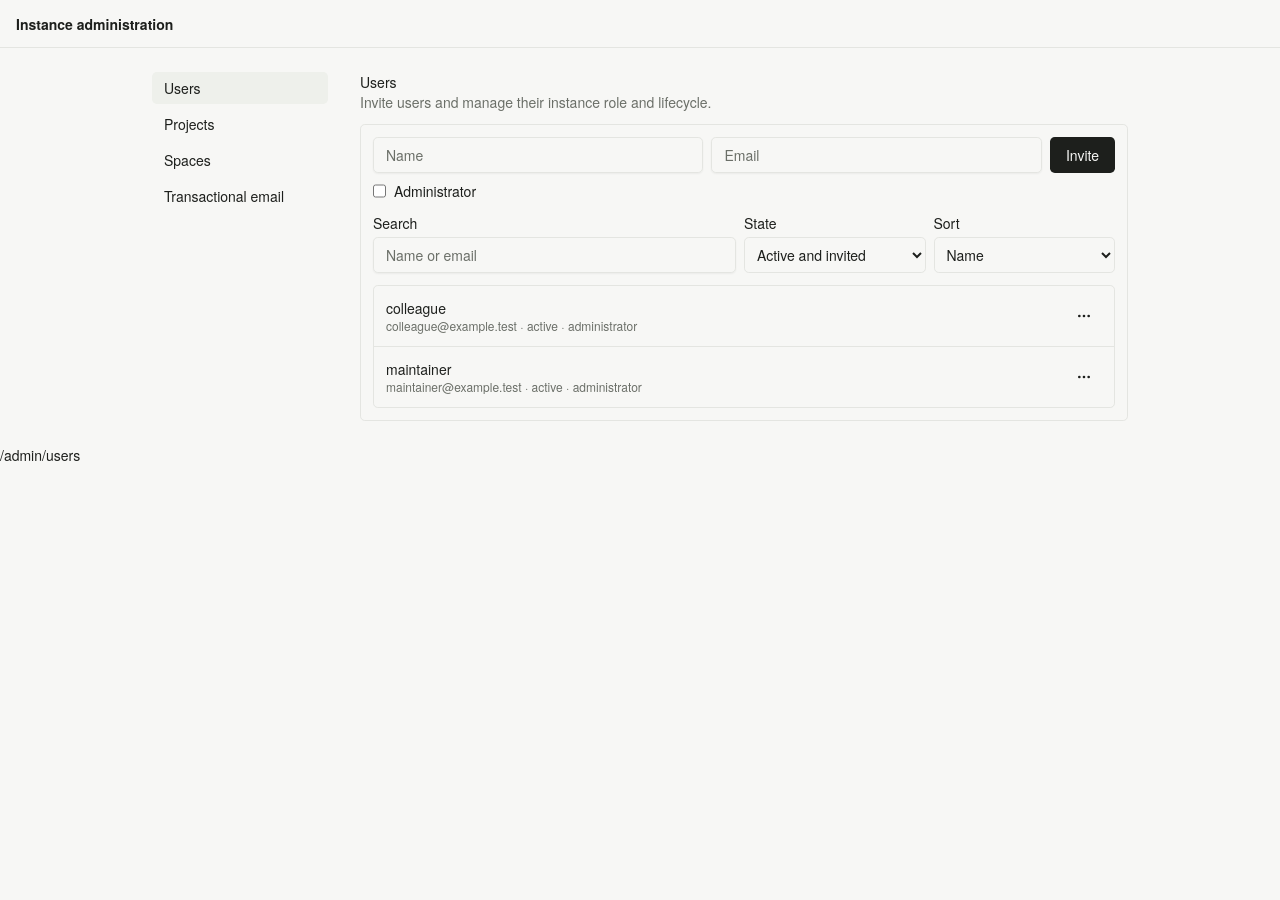
says why an administrator cannot be demoted
Click the button named "Actions for colleague".
click(1084, 316)  # box [1066,300,1102,332]
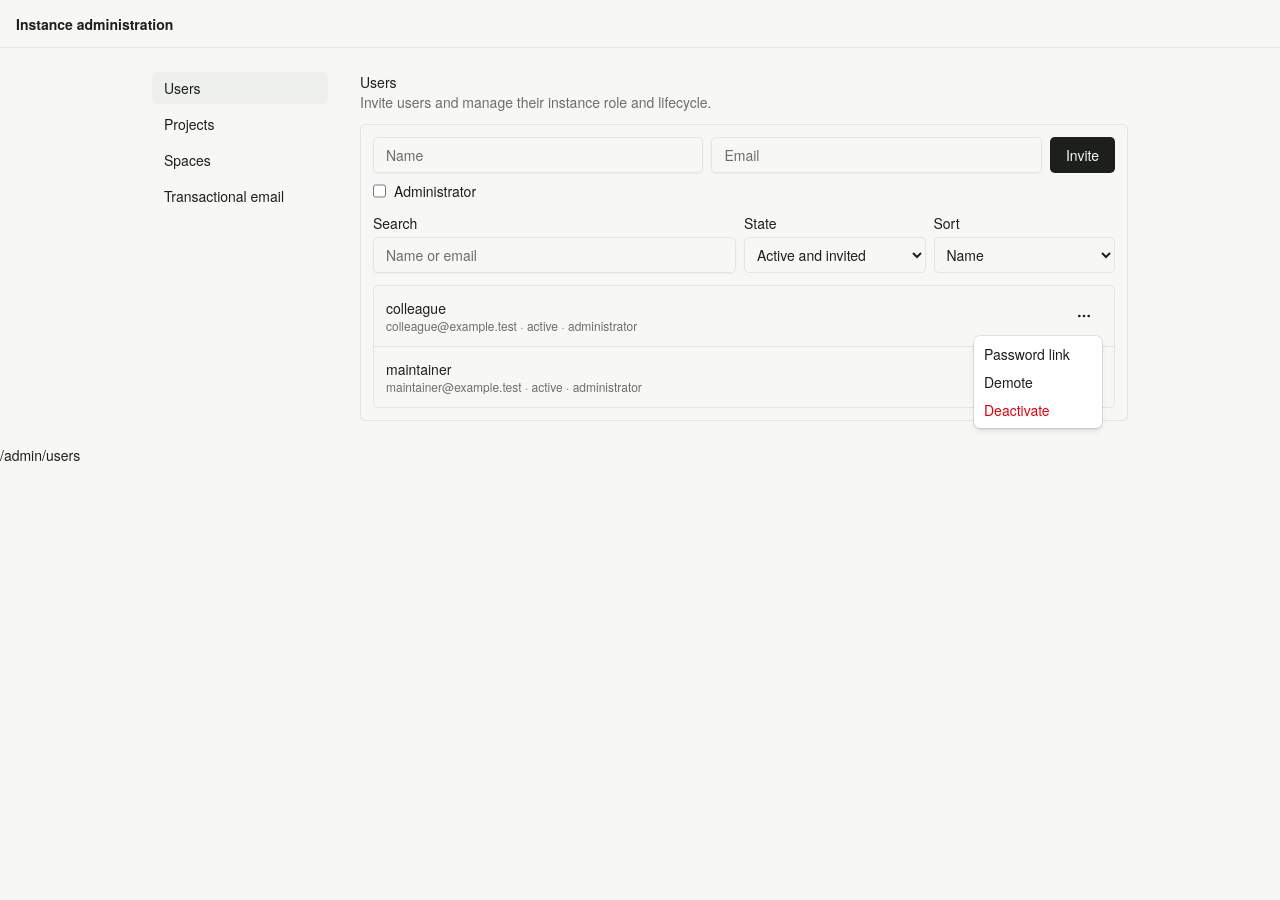
Click the menu item "Demote".
click(1008, 382)  # box [984,372,1033,392]
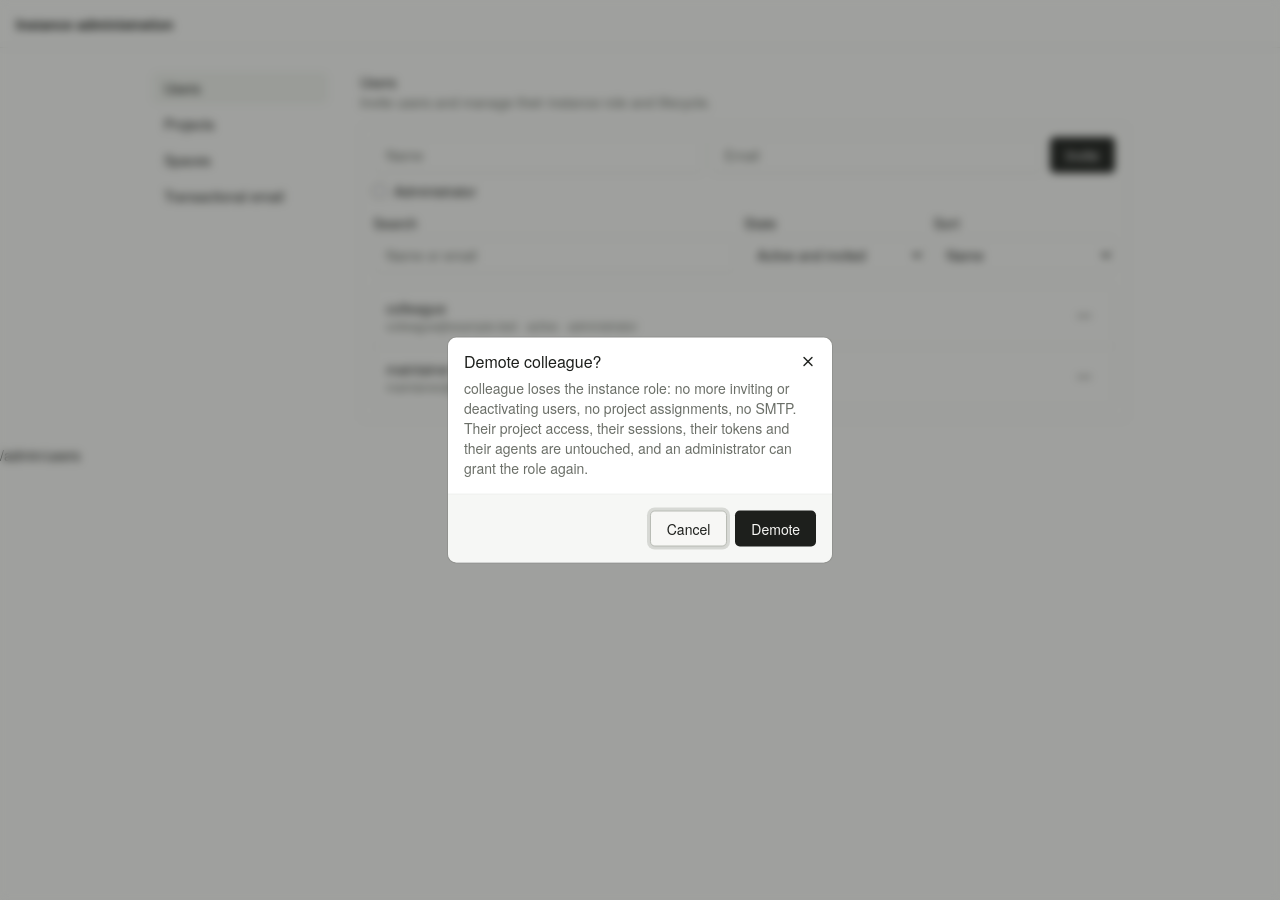
Click the button "Demote".
click(776, 528)  # box [735,510,816,546]
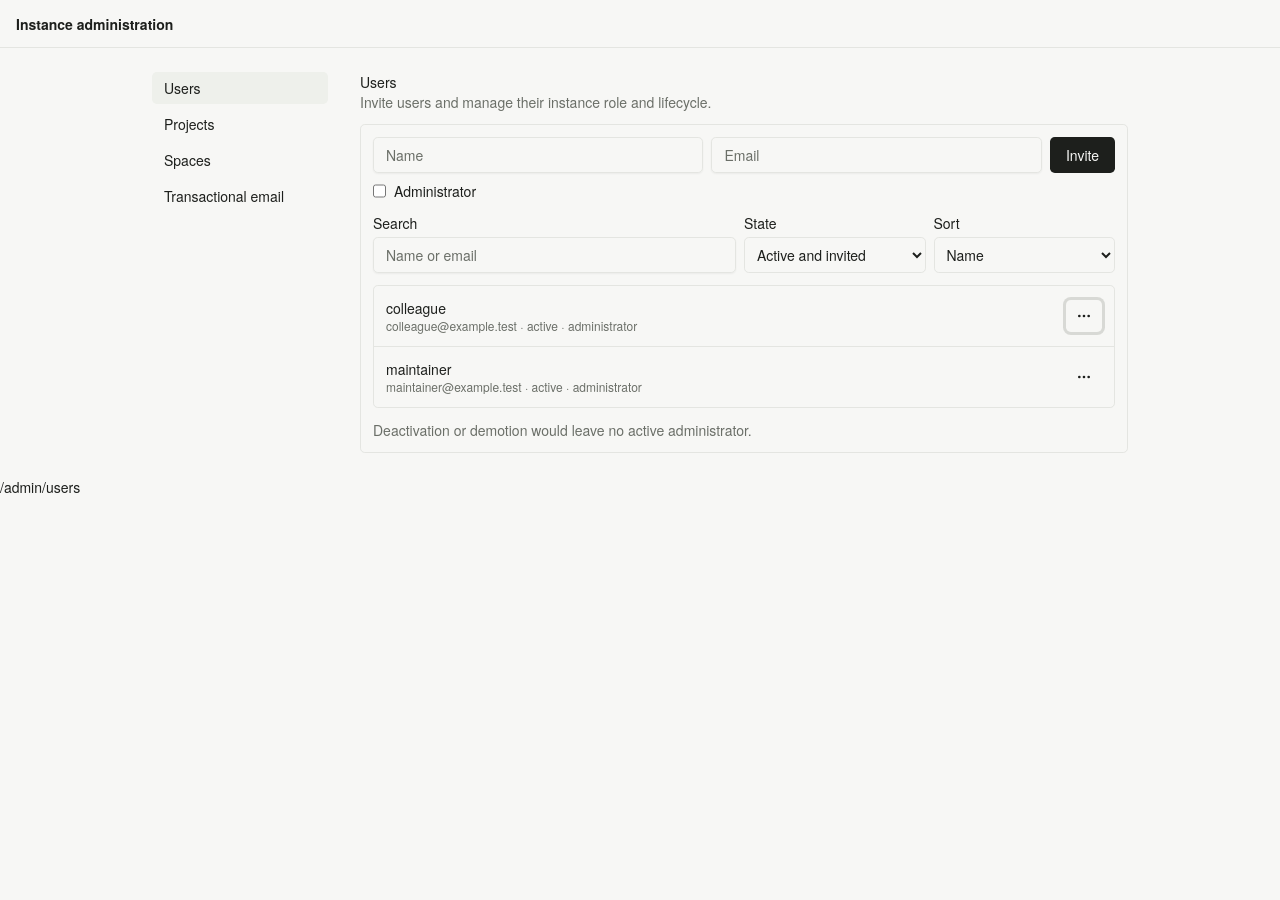
Now the message reads "Deactivation or demotion would leave no active administrator.", box [373,420,752,440]
